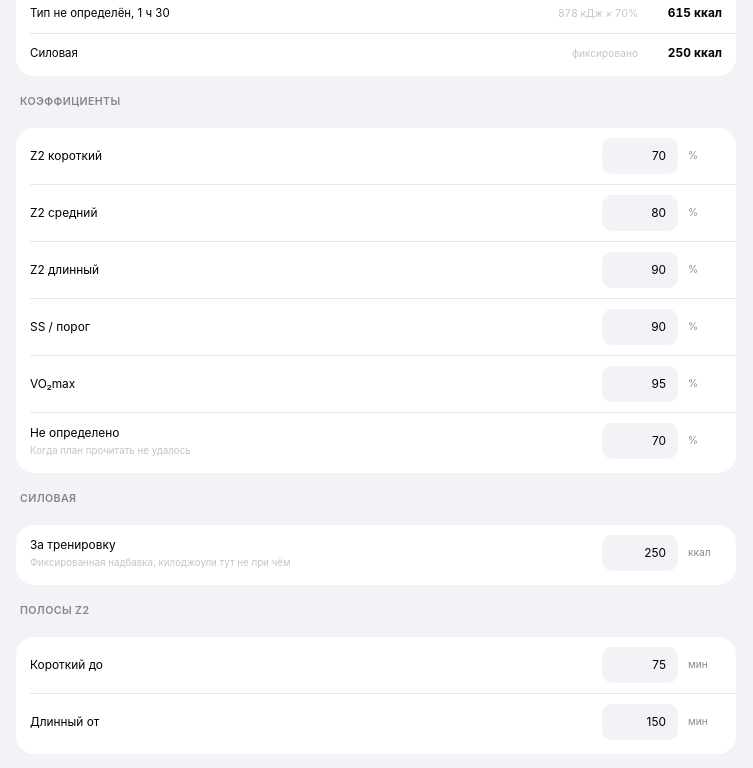
Test case: bounds › refuses to save a value the server would reject
(page scrolled)
Note: The ratio ceiling is 200%.
Step 1. Replace the text in the field named "VO₂max" with "5000" → [640, 384], box left=602, top=366, right=678, bottom=402
(page scrolled)
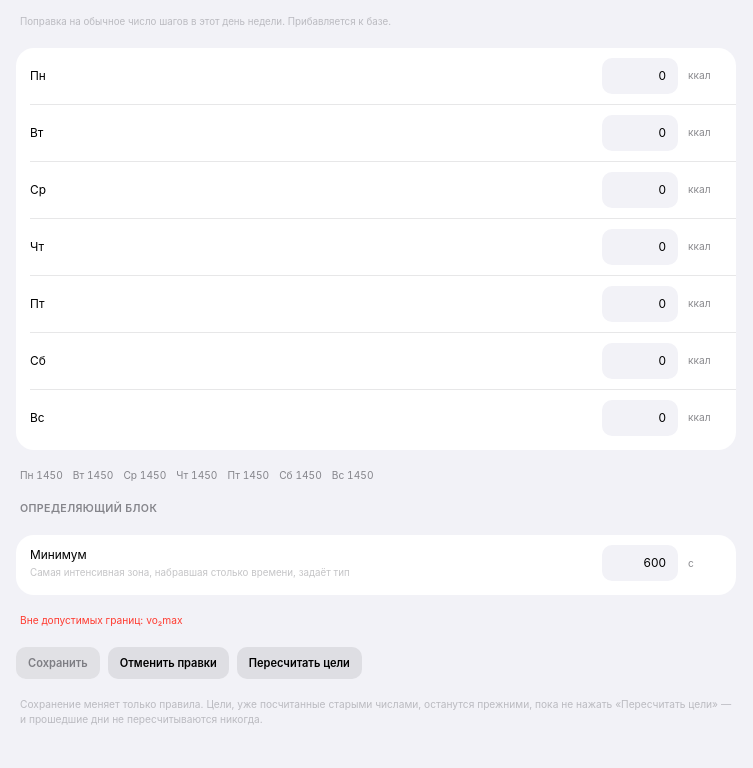
Now the button "Сохранить" is disabled, box left=16, top=647, right=100, bottom=679
Now the text "Вне допустимых границ: vo₂max" is shown, box left=20, top=614, right=182, bottom=626
